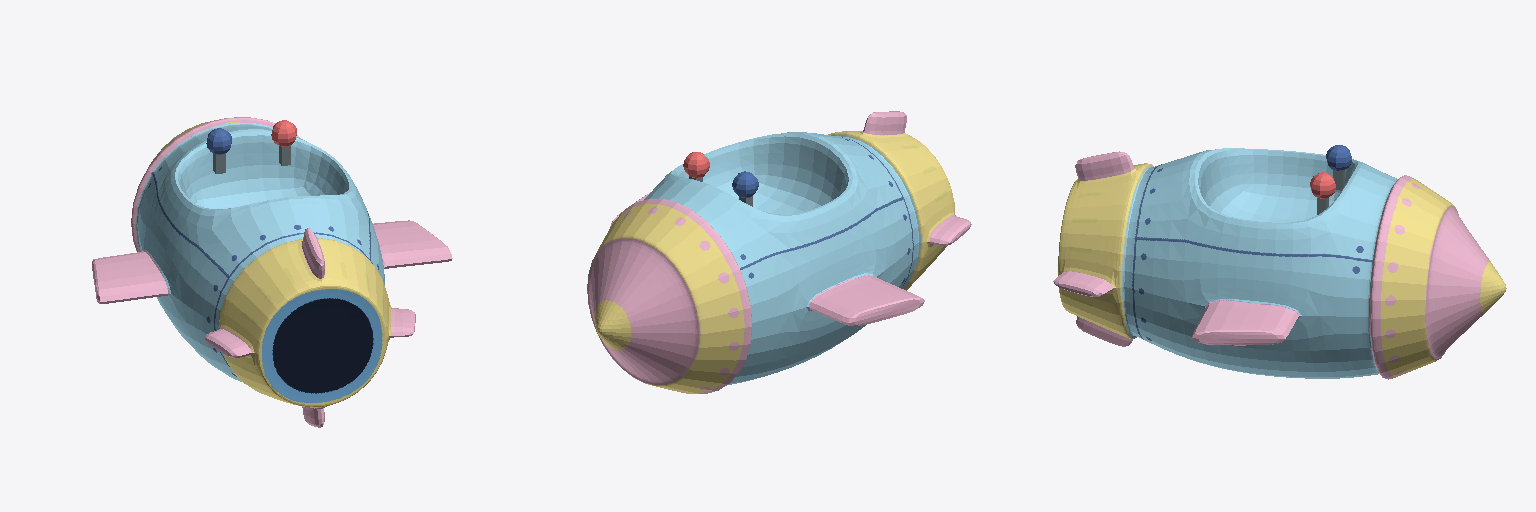
The picture shows the model from 3 angles: view 1: azimuth 30°, elevation 25°; view 2: azimuth 150°, elevation 25°; view 3: azimuth 270°, elevation 25°; orthographic projection.
Parts seen in each view (by area): view 1: spaceshuttle; view 2: spaceshuttle; view 3: spaceshuttle.
Boxes of the visible parts, <box> form: spaceshuttle: <box>92,117,452,427</box>; spaceshuttle: <box>587,111,971,393</box>; spaceshuttle: <box>1053,145,1506,379</box>.
Size of the model in its own units: 95.07 by 61.98 by 119.
1 materials, 1 textured.